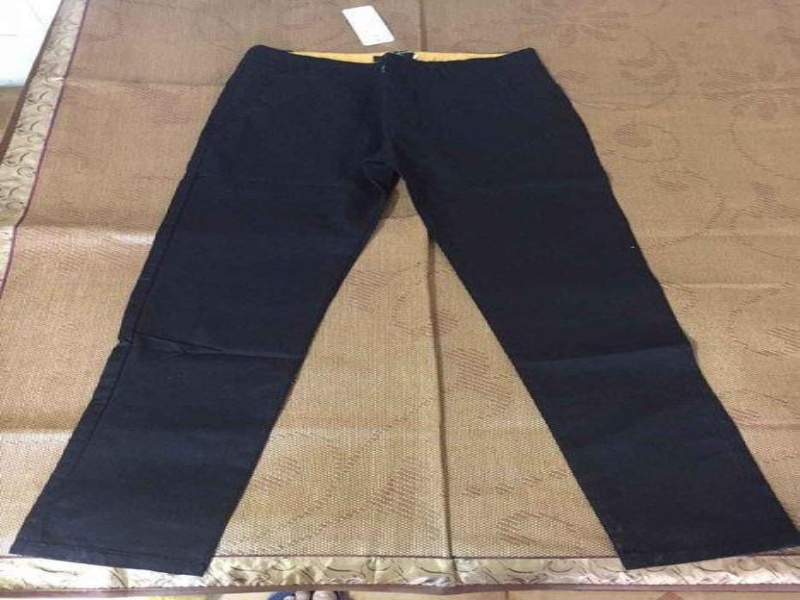trousers: (0, 45, 798, 578)
